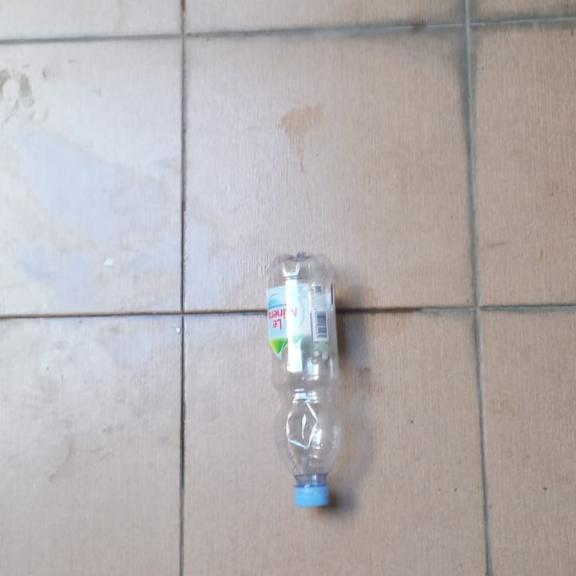Plastik: (266, 251, 344, 507)
